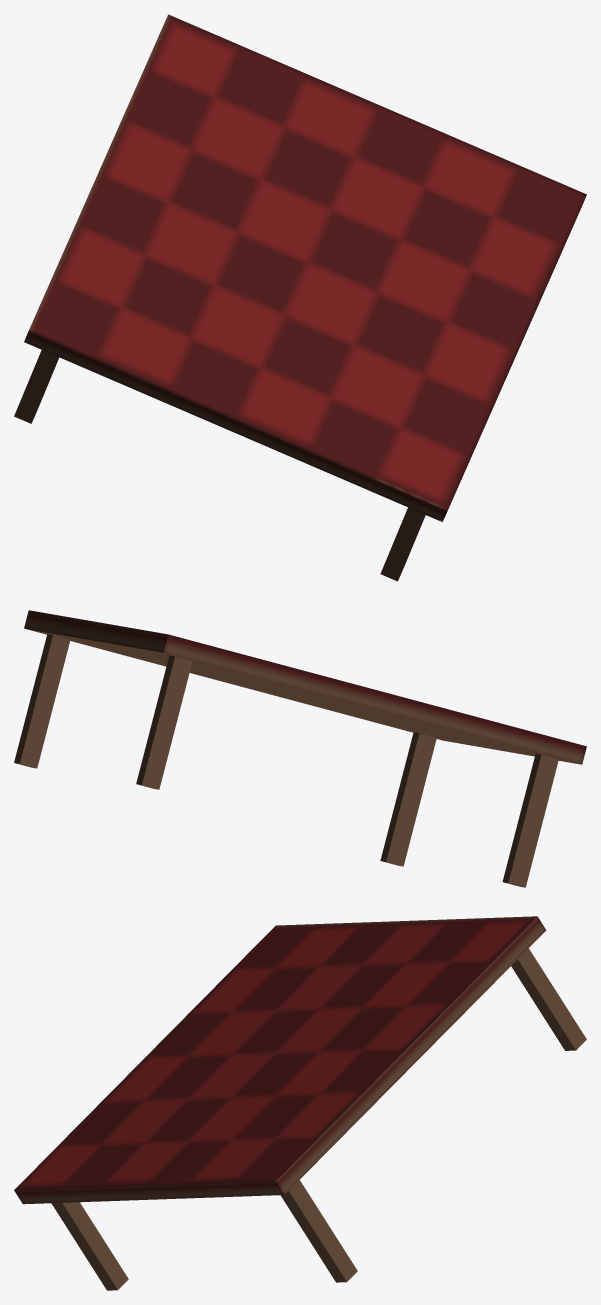
The model's file is BetTable.obj.
The picture shows the model from 3 angles, top to bottom: view 1: azimuth 30°, elevation 25°; view 2: azimuth 150°, elevation 25°; view 3: azimuth 270°, elevation 25°; orthographic projection. The views are drawn at different scales.
Visible parts, largest first — view 1: cube; view 2: cube; view 3: cube.
Boxes of the visible parts, x1,y1,x2,y2 form: cube: (14, 14, 586, 581); cube: (14, 610, 586, 887); cube: (14, 916, 586, 1290).
Bounding box in the file's own units: 0.3394 × 0.2319 × 0.3217.
2 materials, 2 textured.
